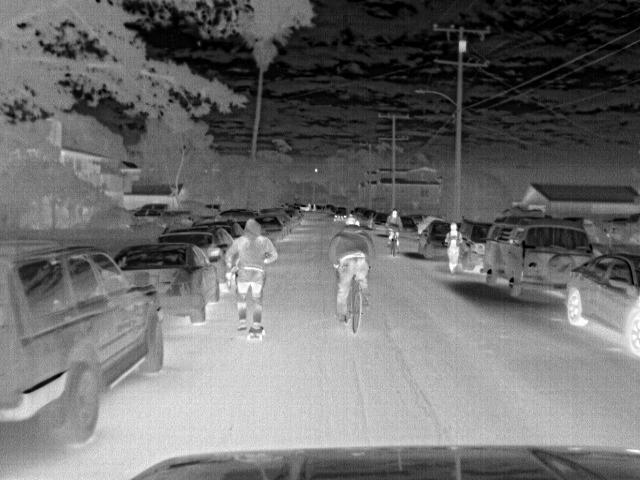car: (1, 235, 166, 444), (483, 220, 600, 306), (115, 243, 215, 331), (566, 253, 639, 356), (159, 228, 225, 272), (453, 218, 491, 274), (417, 220, 448, 260), (140, 203, 193, 225), (255, 212, 285, 243), (132, 208, 179, 227), (262, 209, 291, 236), (214, 207, 259, 221), (401, 213, 417, 246), (282, 210, 301, 228), (373, 214, 388, 233), (334, 206, 350, 222)
person: (220, 219, 278, 332), (336, 214, 371, 318), (445, 221, 463, 273), (385, 210, 405, 245)
